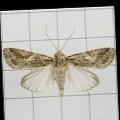Spodoptera litura: (2, 24, 116, 98)
